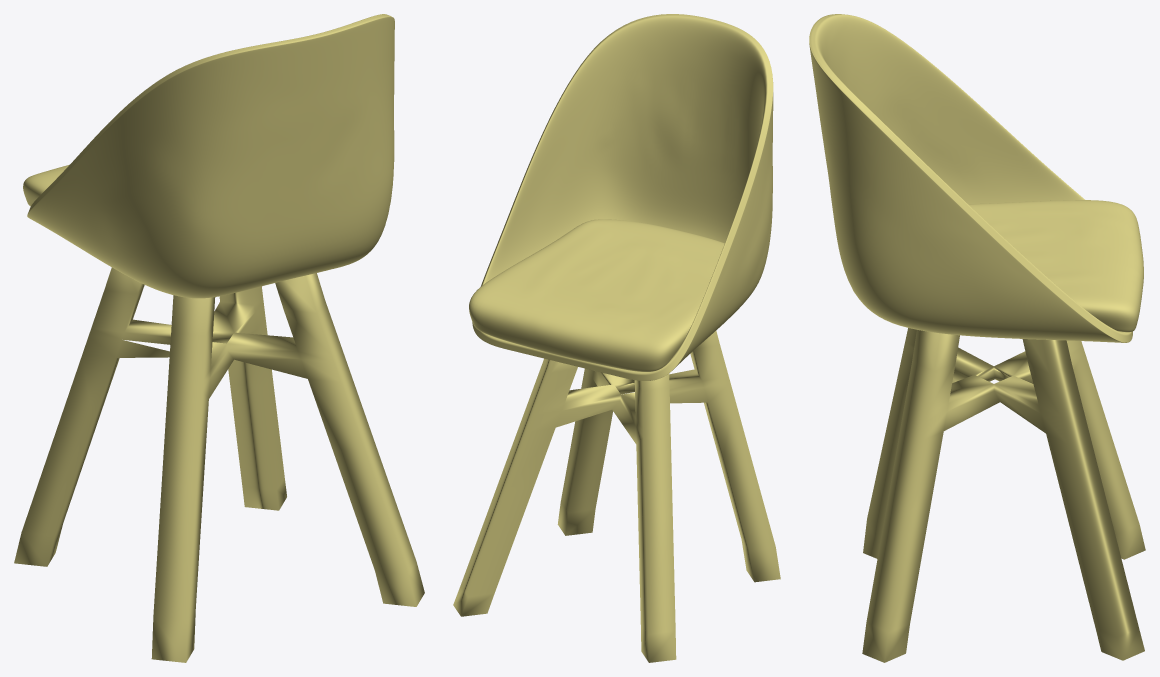
File: chair3.glb
3 renders of one model, left to right at view 1: azimuth 30°, elevation 25°; view 2: azimuth 150°, elevation 25°; view 3: azimuth 270°, elevation 25°, orthographic. The views are drawn at different scales.
Visible parts, largest first — view 1: Back, Legs, Seat; view 2: Back, Legs, Seat; view 3: Back, Legs, Seat.
Boxes of the visible parts, <box> form: Back: <box>27,14,394,298</box>; Legs: <box>14,267,424,662</box>; Seat: <box>23,164,69,206</box>; Back: <box>472,14,773,380</box>; Legs: <box>453,331,780,662</box>; Seat: <box>469,219,724,371</box>; Back: <box>809,14,1132,342</box>; Legs: <box>862,328,1145,662</box>; Seat: <box>968,200,1143,332</box>.
Size of the model in its own units: 3.51 by 7.53 by 4.11.
